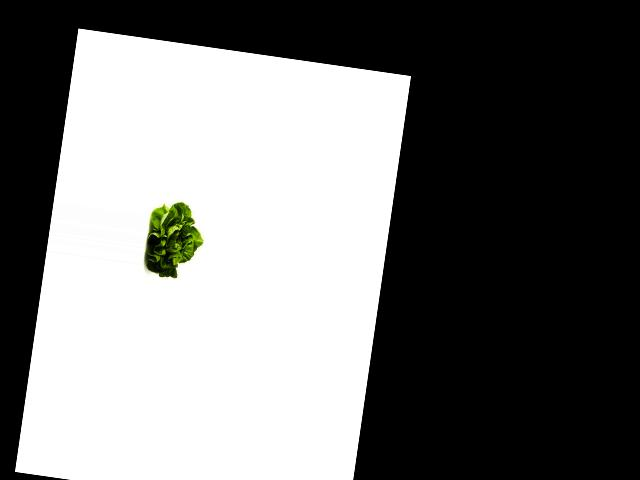lettuce: (141, 195, 207, 283)
